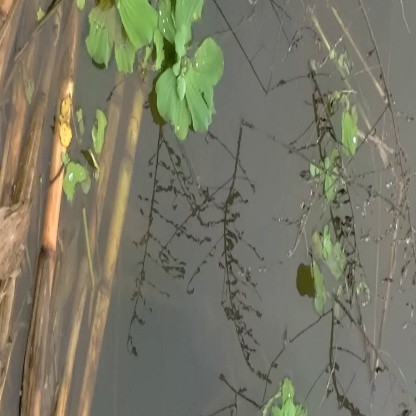leaf: (160, 37, 232, 144)
